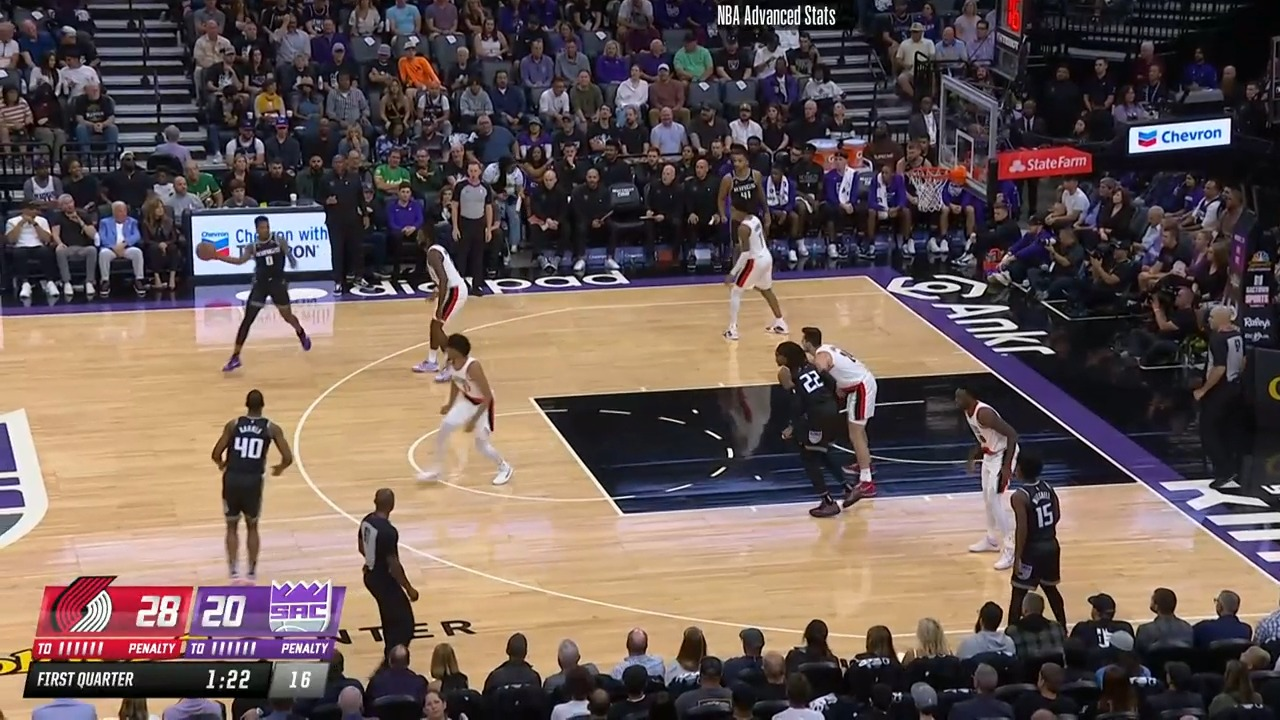net: (903, 161, 966, 214)
player: (212, 388, 303, 586), (755, 333, 850, 521), (405, 331, 510, 488), (935, 380, 1023, 567), (219, 214, 319, 375), (805, 326, 883, 510), (998, 455, 1069, 632), (720, 202, 781, 346), (412, 226, 466, 378), (710, 149, 764, 289)
referee: (355, 485, 429, 670), (1185, 303, 1249, 493), (448, 169, 502, 301)
